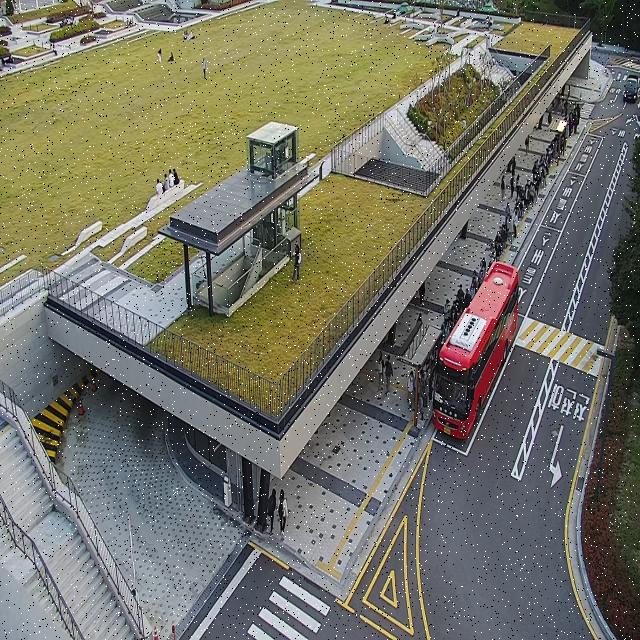queue: (416, 100, 580, 430)
